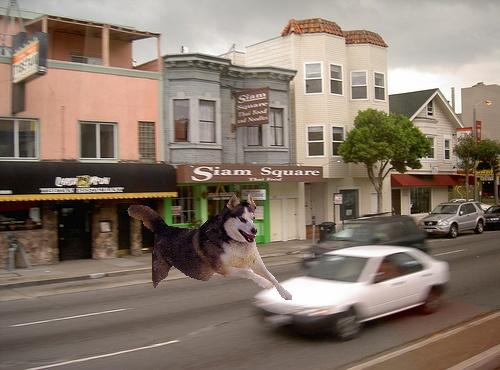tampered: (128, 194, 292, 300)
